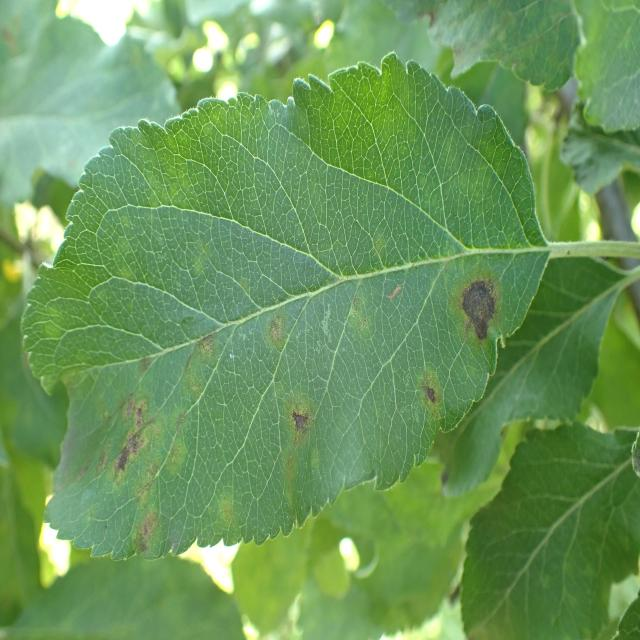scab: (89, 214, 512, 542)
